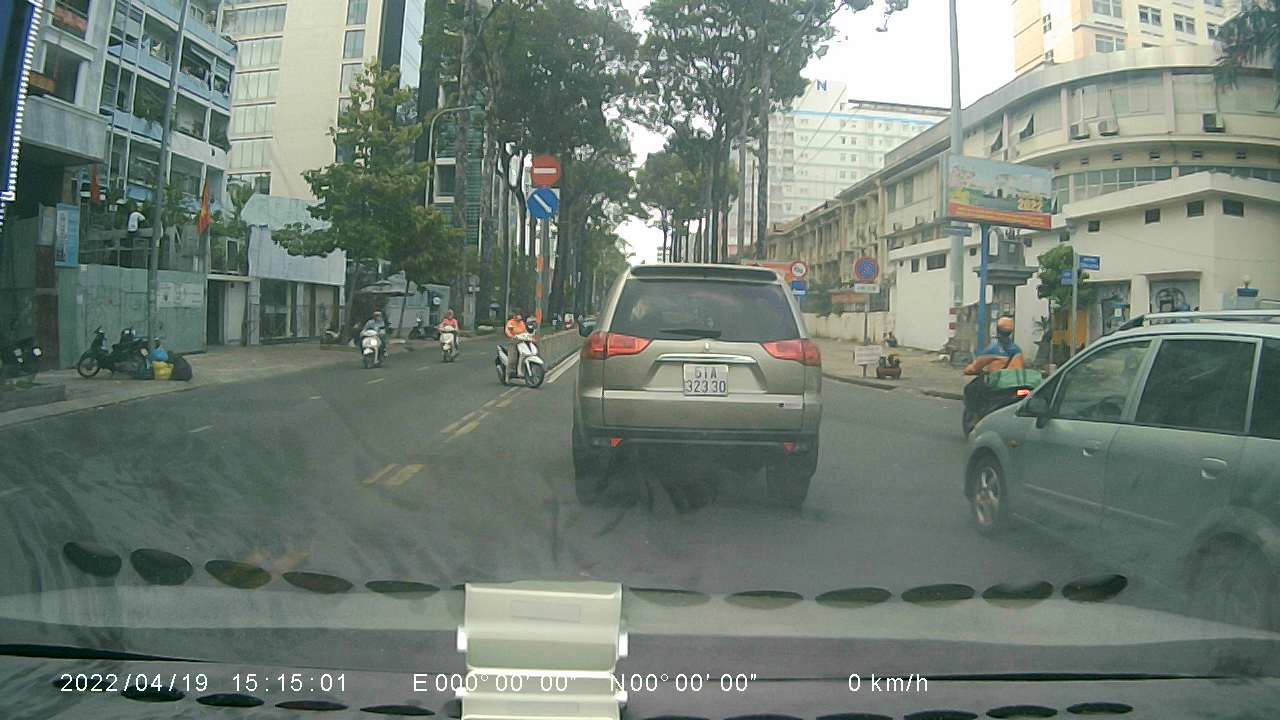Cam di nguoc chieu: (526, 150, 562, 185)
Huong di phai re phai: (524, 188, 560, 220)
